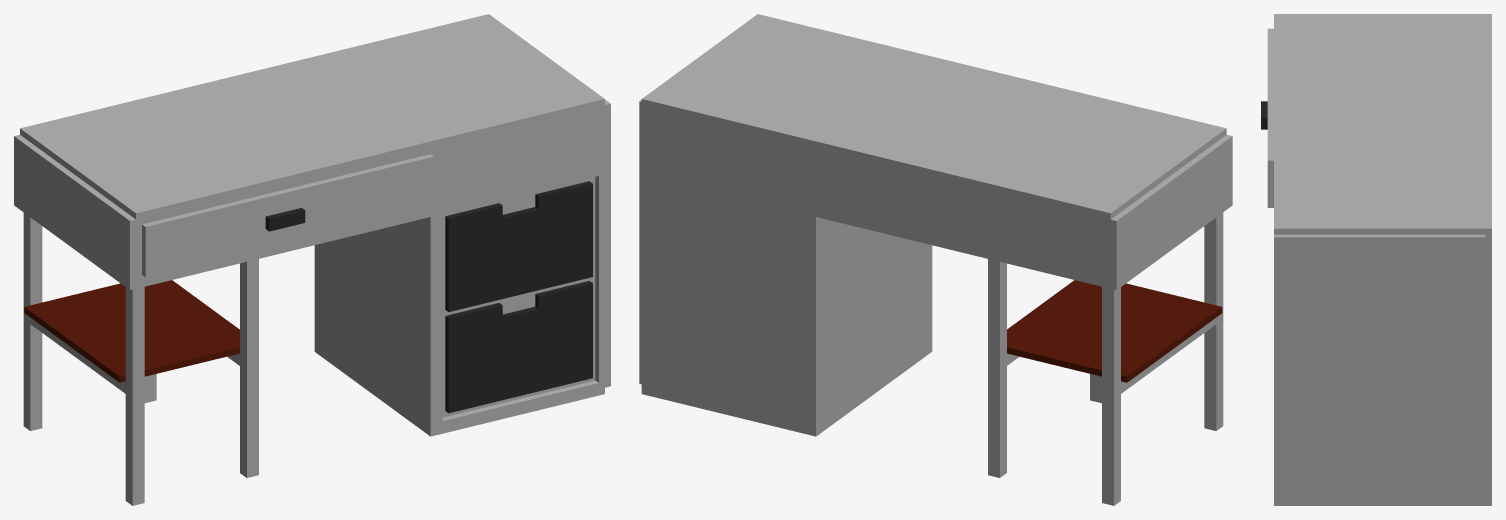
The model's file is Study room desk.fbx.
3 views of the same model, side by side, from view 1: azimuth 30°, elevation 25°; view 2: azimuth 150°, elevation 25°; view 3: azimuth 270°, elevation 25° (orthographic). The views are drawn at different scales.
Parts seen in each view (by area): view 1: study desk; view 2: study desk; view 3: study desk.
Boxes of the visible parts, <box> form: study desk: <box>14,14,610,505</box>; study desk: <box>639,14,1232,505</box>; study desk: <box>1261,14,1491,505</box>.
Bounding box in the file's own units: 1.29 × 0.7574 × 0.5719.
